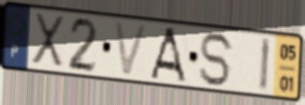2: (67, 16, 101, 75)
A: (148, 25, 189, 85)
I: (257, 35, 273, 94)
S: (199, 30, 237, 88)
V: (112, 19, 151, 79)
X: (29, 11, 66, 71)
